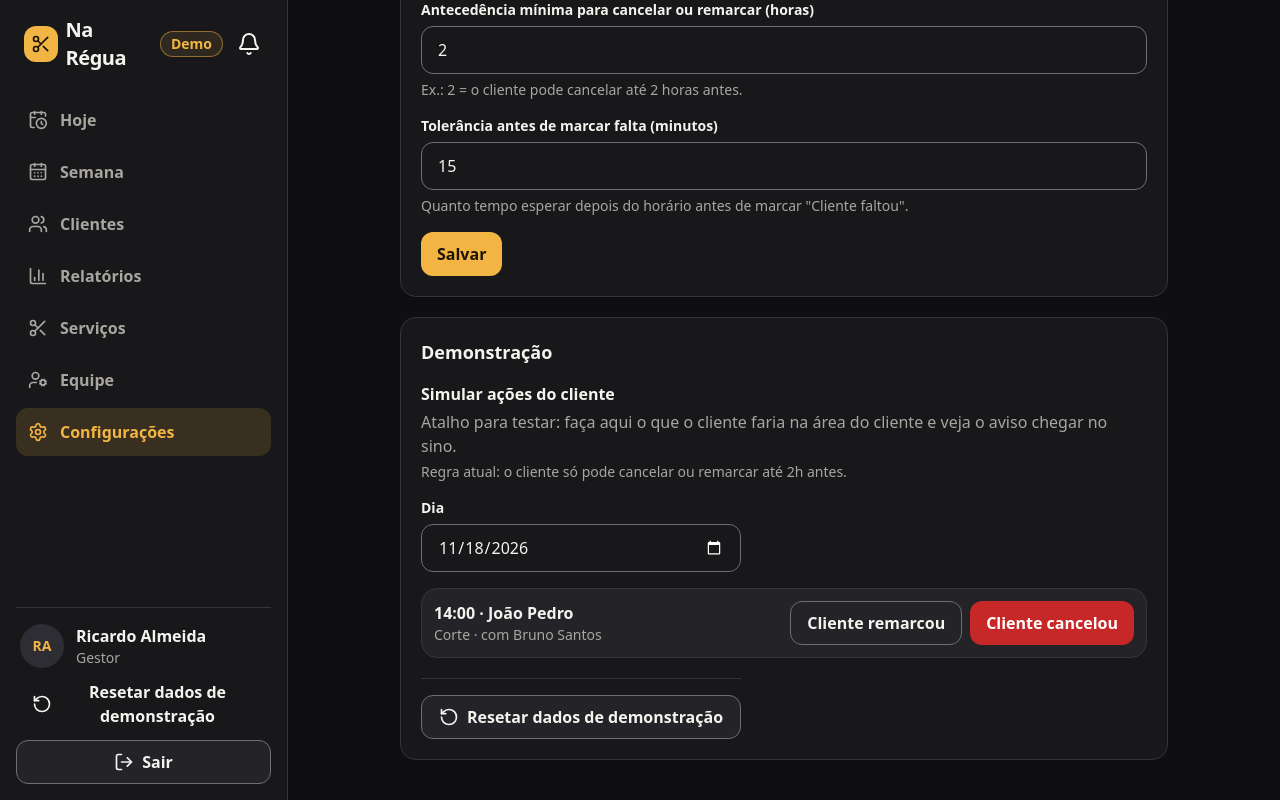
Test case: SettingsPage › simulates the client rescheduling to a free time
(page scrolled)
What coordinates should you click on to do the following:
click the button with aria-label "João Pedro remarca o horário de qua, 18/11 às 14:00"
I would click on:
 (876, 623)
Its box is [790, 601, 962, 645].
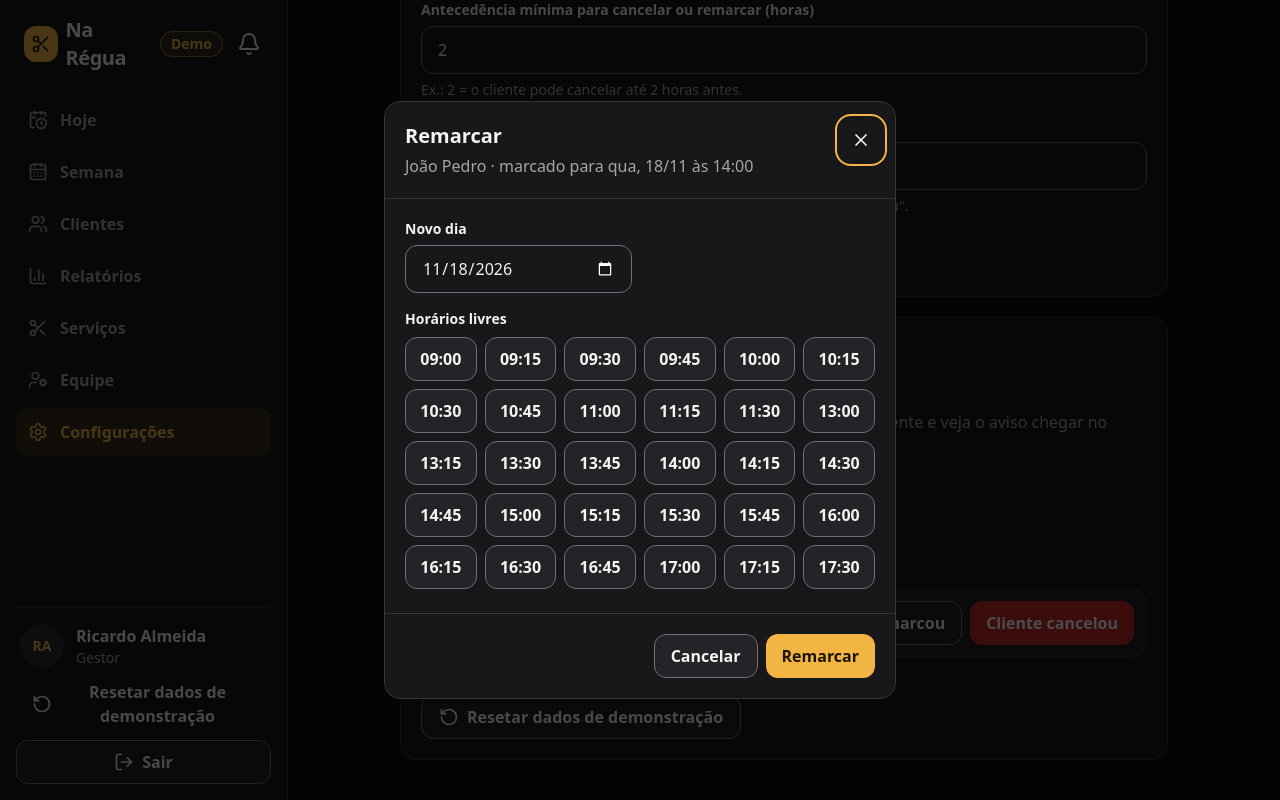
What coordinates should you click on to do the following:
click the radio button labelled "17:00"
I would click on:
 (680, 567)
Its box is [644, 545, 716, 589].
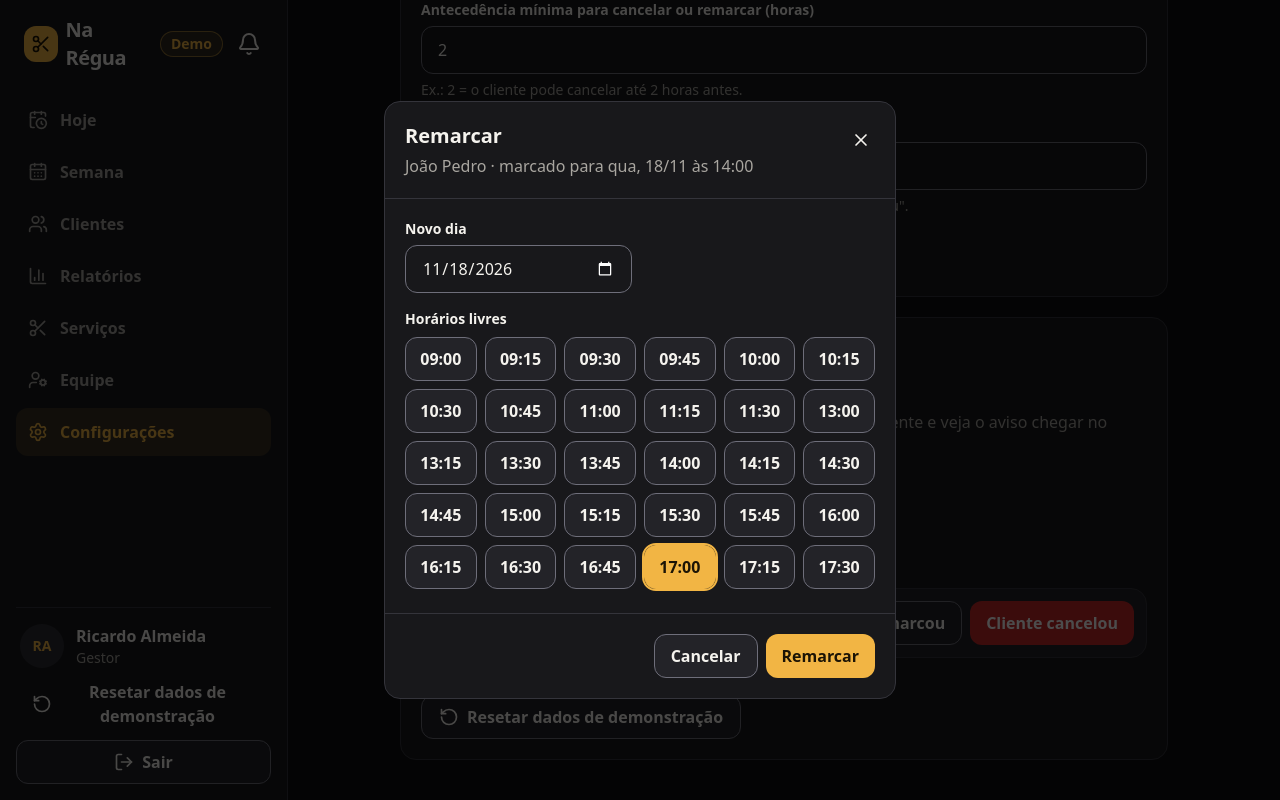
What coordinates should you click on to do the following:
click the button "Remarcar"
I would click on:
 (820, 656)
Its box is [766, 634, 875, 678].
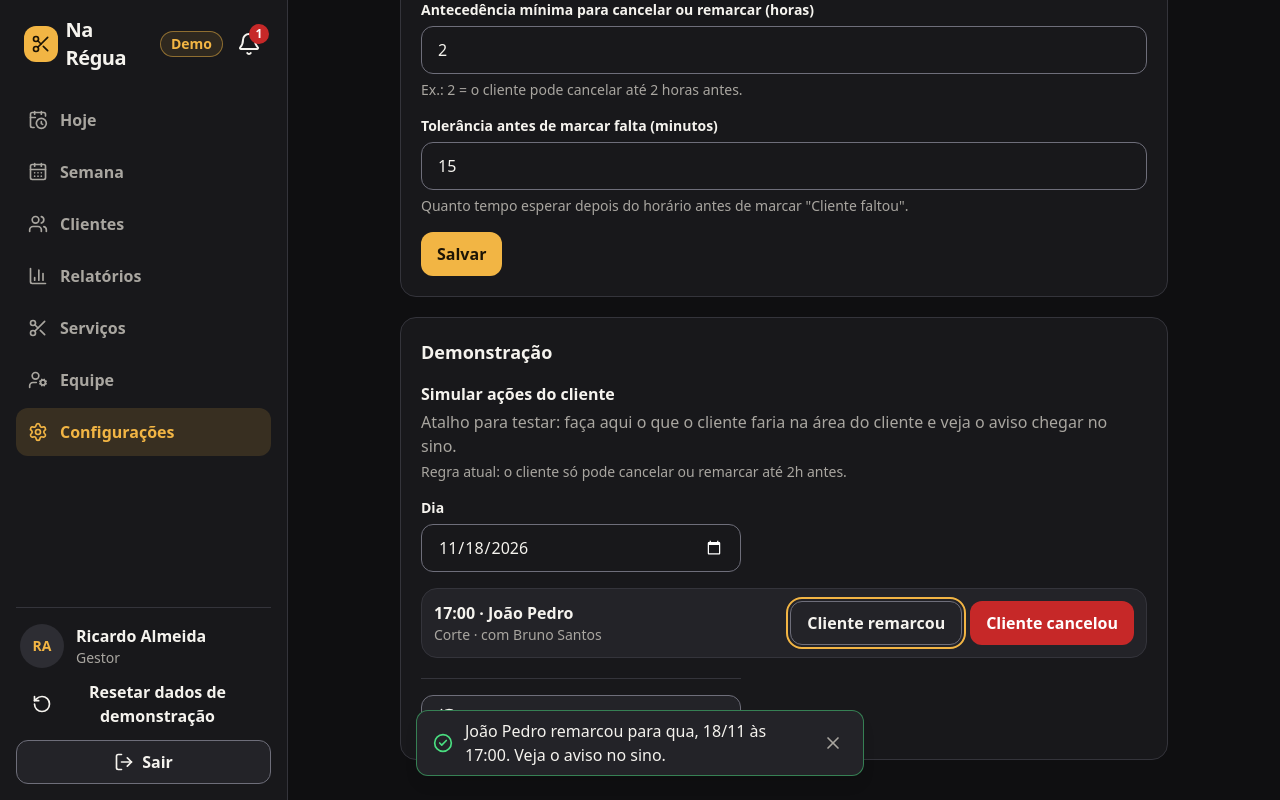
Now the text "João Pedro remarcou para qua, 18/11 às 17:00. Veja o aviso no sino." is shown, box [465, 719, 799, 767]
What coordinates should you click on to do the following:
click the button named "Avisos, 1 não lido"
I would click on:
 (249, 44)
Its box is [227, 22, 271, 66].
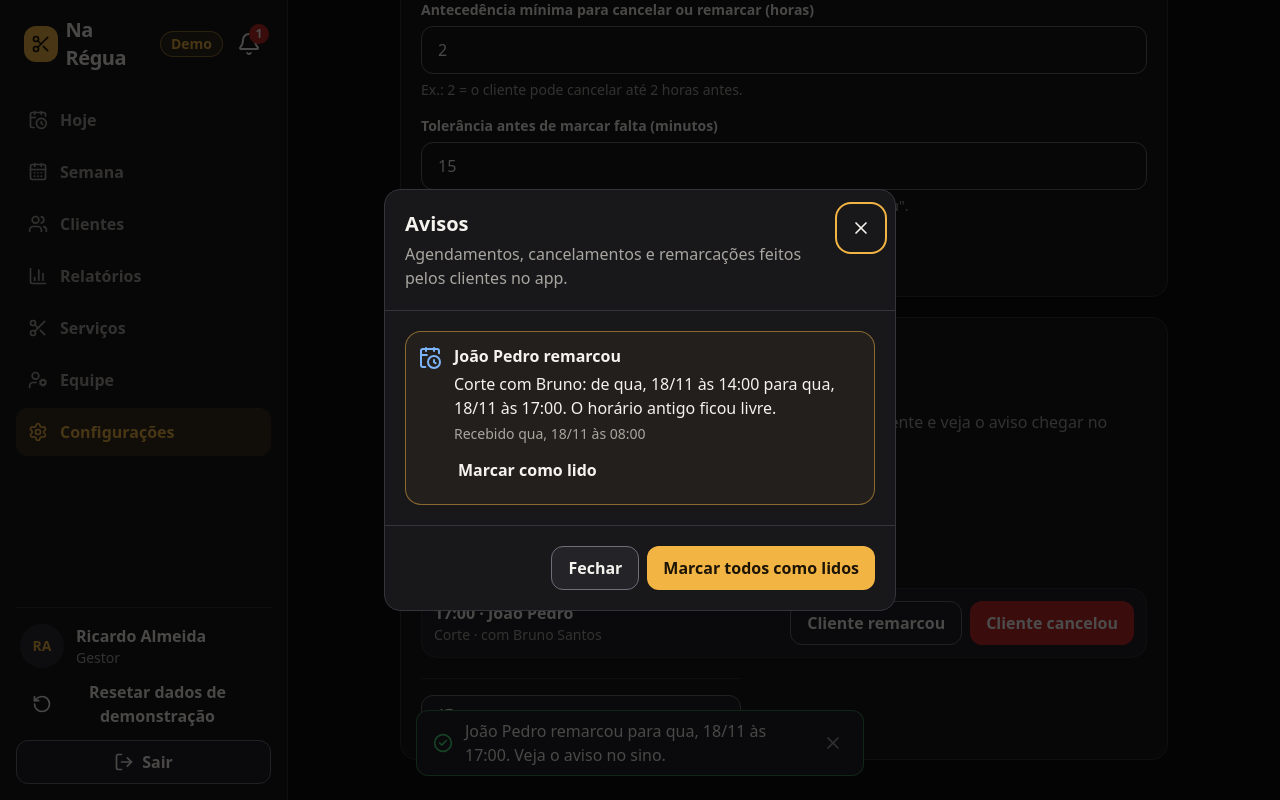
Now the heading "João Pedro remarcou" is shown, box [454, 344, 697, 367]
